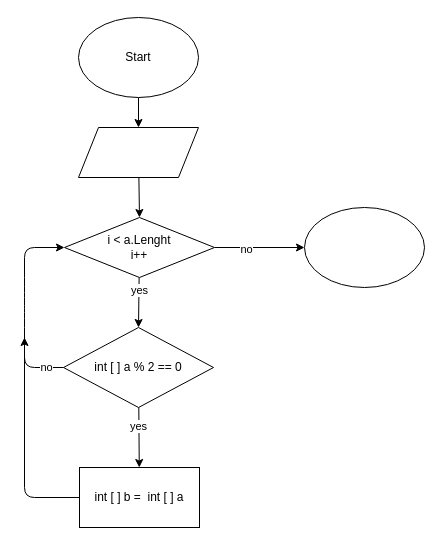
Some shapes in this 442 by 545 pixel diagram are drawn without their labels. Each missing label, with the centre of its shape:
int [ ] a int [ ] b i = 0: the point at 138,152
print int [ ] b: the point at 364,247
